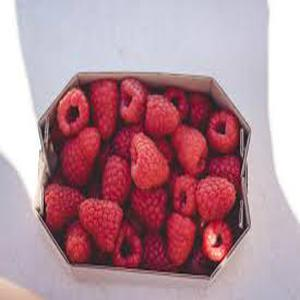duino: (57, 88, 231, 260)
